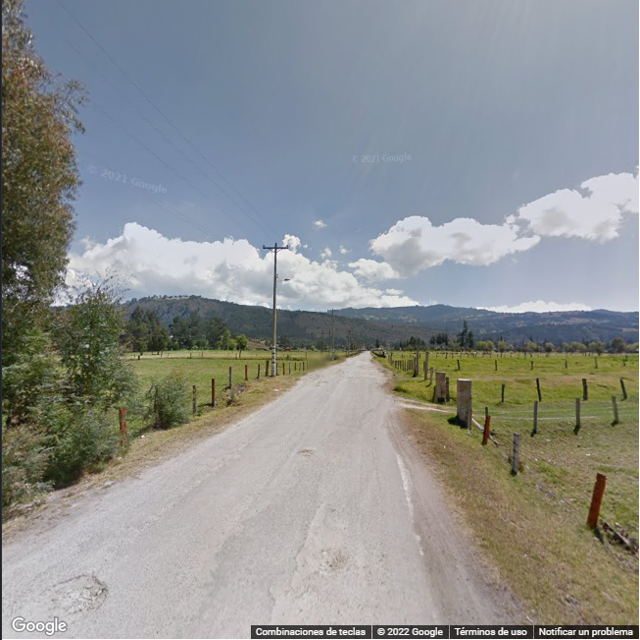D00: (285, 502, 323, 574)
D40: (43, 568, 103, 615)
